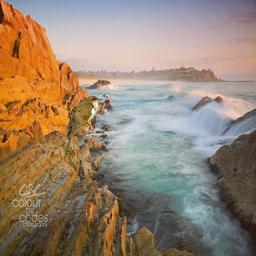Cuckoo: (64, 95, 103, 160)
